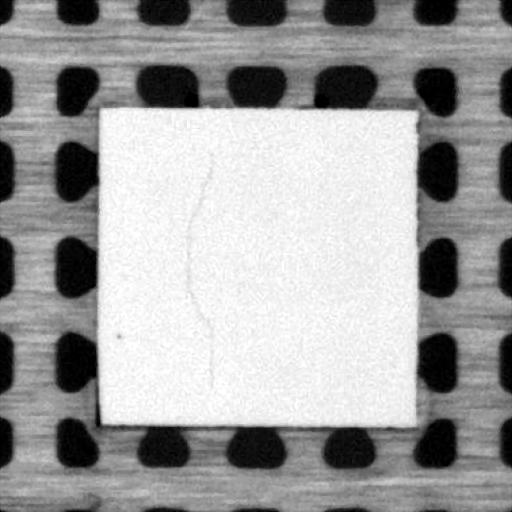DIE_INK: (111, 330, 122, 344)
